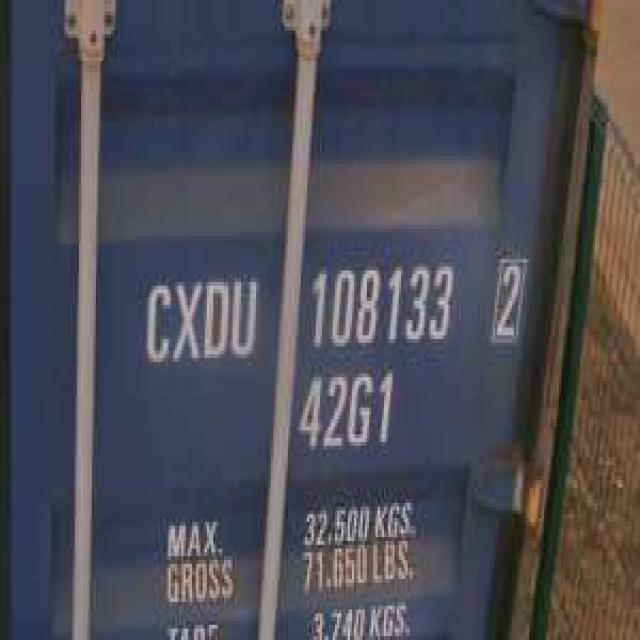dv: (486, 248, 527, 346)
owner: (137, 263, 260, 369)
serial: (303, 252, 456, 354)
size: (294, 362, 397, 457)
